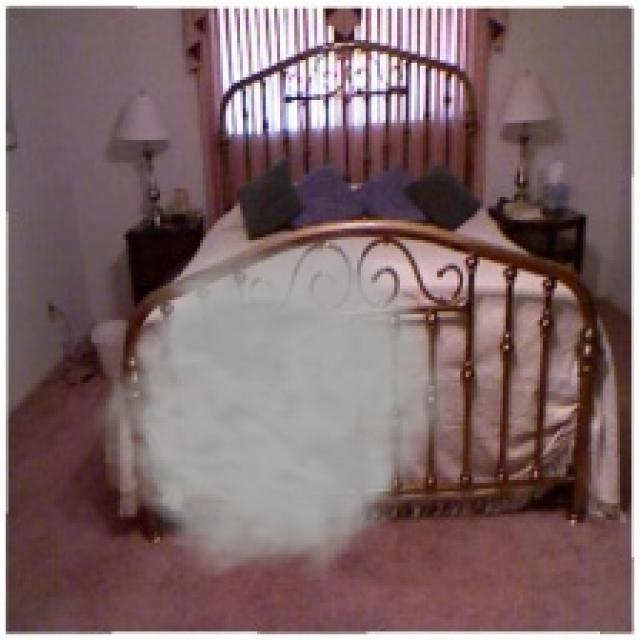smoke: (86, 217, 463, 580)
